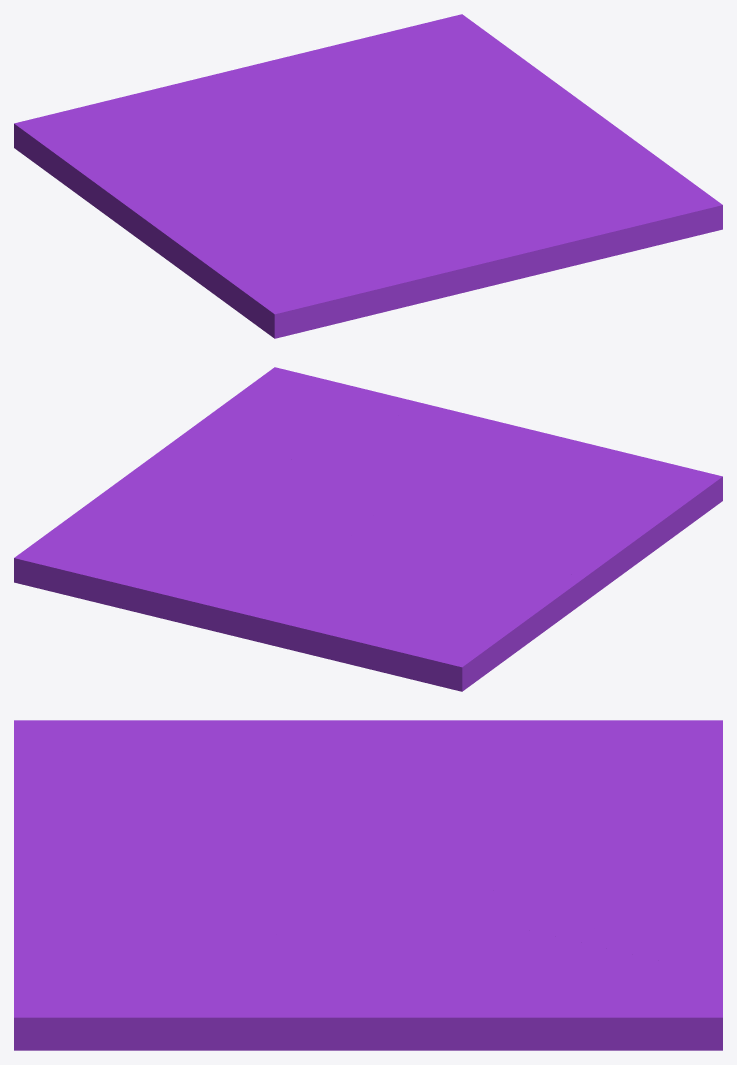
The model's file is Window_176_chunks.fbx.
3 views of the same model, one above another, from view 1: azimuth 30°, elevation 25°; view 2: azimuth 150°, elevation 25°; view 3: azimuth 270°, elevation 25° (orthographic). The views are drawn at different scales.
Parts seen in each view (by area): view 1: Window_176_30, Window_176_27, Window_176_14, Window_176_4, Window_176_11, Window_176_26, Window_176_28, Window_176_2, Window_176_32, Window_176_15, Window_176_13, Window_176_43 (+35 smaller); view 2: Window_176_4, Window_176_30, Window_176_14, Window_176_56, Window_176_27, Window_176_11, Window_176_15, Window_176_2, Window_176_32, Window_176_6, Window_176_13, Window_176_43 (+36 smaller); view 3: Window_176_30, Window_176_13, Window_176_14, Window_176_27, Window_176_4, Window_176_11, Window_176_2, Window_176_32, Window_176_15, Window_176_52, Window_176_51, Window_176_26 (+35 smaller).
Boxes of the visible parts, x1=… form: Window_176_30: x1=540, y1=162, x2=722, y2=258; Window_176_27: x1=403, y1=214, x2=616, y2=286; Window_176_14: x1=398, y1=14, x2=475, y2=101; Window_176_4: x1=34, y1=80, x2=217, y2=135; Window_176_11: x1=244, y1=174, x2=352, y2=261; Window_176_26: x1=273, y1=242, x2=403, y2=316; Window_176_28: x1=370, y1=257, x2=508, y2=314; Window_176_2: x1=313, y1=130, x2=540, y2=163; Window_176_32: x1=415, y1=164, x2=543, y2=223; Window_176_15: x1=190, y1=77, x2=349, y2=136; Window_176_13: x1=501, y1=101, x2=633, y2=148; Window_176_43: x1=206, y1=233, x2=291, y2=291; Window_176_4: x1=286, y1=602, x2=441, y2=680; Window_176_30: x1=216, y1=367, x2=403, y2=439; Window_176_14: x1=14, y1=515, x2=222, y2=597; Window_176_56: x1=141, y1=579, x2=276, y2=646; Window_176_27: x1=381, y1=393, x2=510, y2=470; Window_176_11: x1=424, y1=496, x2=606, y2=550; Window_176_15: x1=248, y1=544, x2=339, y2=650; Window_176_2: x1=248, y1=462, x2=365, y2=551; Window_176_32: x1=343, y1=423, x2=435, y2=500; Window_176_6: x1=418, y1=604, x2=492, y2=691; Window_176_13: x1=150, y1=432, x2=248, y2=497; Window_176_43: x1=559, y1=493, x2=691, y2=535; Window_176_30: x1=14, y1=915, x2=173, y2=1050; Window_176_13: x1=254, y1=953, x2=447, y2=1050; Window_176_14: x1=504, y1=928, x2=722, y2=1050; Window_176_27: x1=14, y1=840, x2=178, y2=946; Window_176_4: x1=593, y1=734, x2=722, y2=841; Window_176_11: x1=150, y1=764, x2=390, y2=844; Window_176_2: x1=295, y1=860, x2=484, y2=965; Window_176_32: x1=83, y1=870, x2=336, y2=934; Window_176_15: x1=483, y1=837, x2=722, y2=893; Window_176_52: x1=467, y1=995, x2=703, y2=1044; Window_176_51: x1=353, y1=977, x2=499, y2=1050; Window_176_26: x1=14, y1=720, x2=143, y2=821.
Bounding box in the file's own units: 1165 × 60.81 × 1174.
